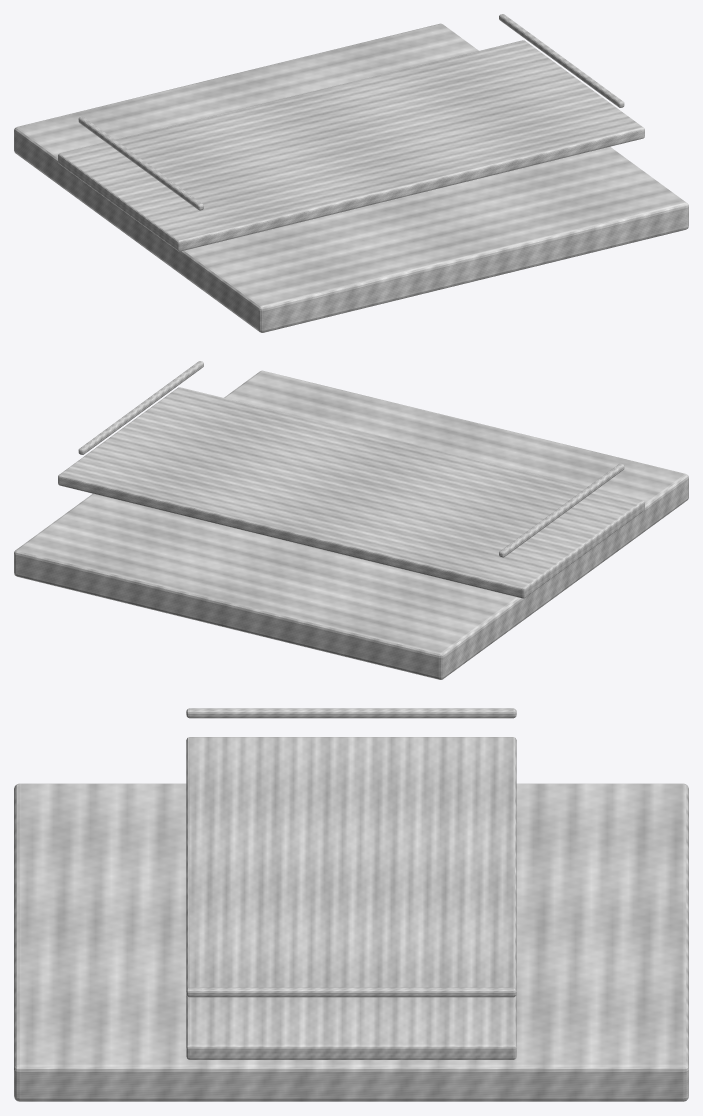
The model's file is walkways_variant_d.glb.
3 views of the same model, one above another, from view 1: azimuth 30°, elevation 25°; view 2: azimuth 150°, elevation 25°; view 3: azimuth 270°, elevation 25° (orthographic). The views are drawn at different scales.
Visible parts, largest first — view 1: Foundation.003, Walkway deck.003, Walkway rail.006, Walkway rail.007; view 2: Foundation.003, Walkway deck.003, Walkway rail.006, Walkway rail.007; view 3: Foundation.003, Walkway deck.003, Walkway rail.006, Walkway rail.007.
Part boxes in pixels (left/top/right/bottom): Foundation.003: left=14, top=23, right=688, bottom=332; Walkway deck.003: left=58, top=40, right=644, bottom=251; Walkway rail.006: left=78, top=116, right=203, bottom=210; Walkway rail.007: left=499, top=14, right=624, bottom=107; Foundation.003: left=14, top=370, right=688, bottom=679; Walkway deck.003: left=58, top=387, right=644, bottom=598; Walkway rail.006: left=499, top=463, right=624, bottom=557; Walkway rail.007: left=78, top=361, right=203, bottom=454; Foundation.003: left=14, top=783, right=688, bottom=1101; Walkway deck.003: left=186, top=737, right=516, bottom=1059; Walkway rail.006: left=186, top=708, right=516, bottom=718; Walkway rail.007: left=186, top=987, right=516, bottom=997.
Size of what is drawn, in the model's own units: 8 by 1.35 by 7.36.
Materials: 3 (3 with a texture image).
